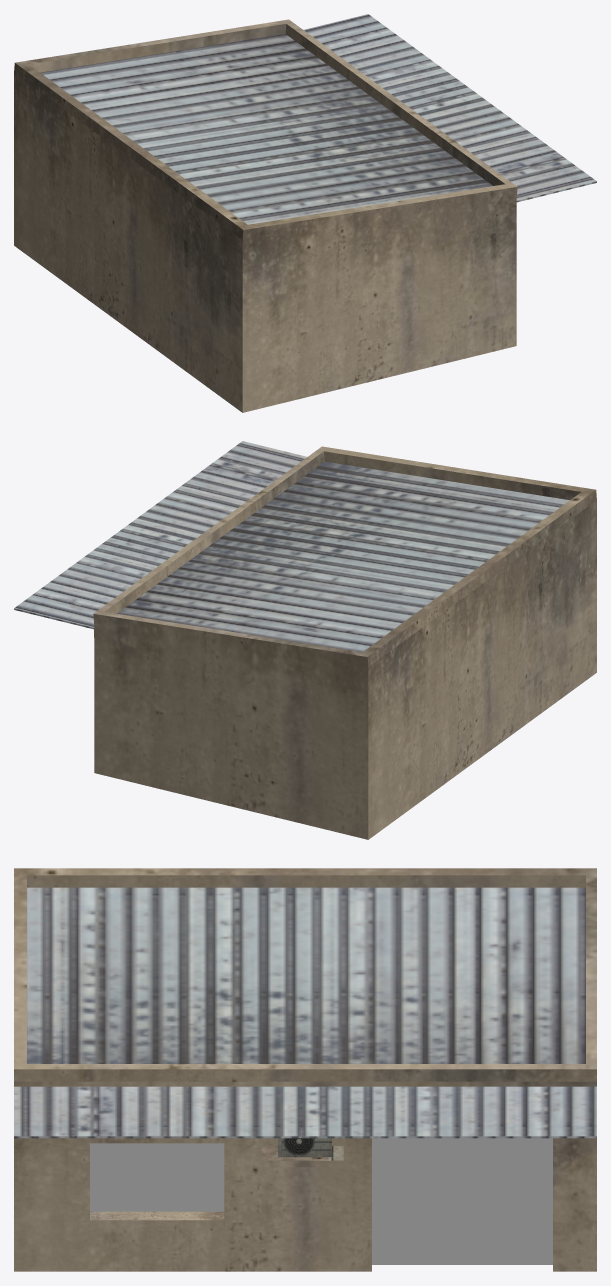
3 views of the same model, one above another, from view 1: azimuth 30°, elevation 25°; view 2: azimuth 150°, elevation 25°; view 3: azimuth 270°, elevation 25° (orthographic). The views are drawn at different scales.
Visible parts, largest first — view 1: Component_1_1; view 2: Component_1_1; view 3: Component_1_1.
Boxes of the visible parts, x1=… form: Component_1_1: x1=14, y1=14, x2=596, y2=412; Component_1_1: x1=14, y1=441, x2=596, y2=839; Component_1_1: x1=14, y1=868, x2=596, y2=1271.
Size of the model in its own units: 500 by 246 by 558.
